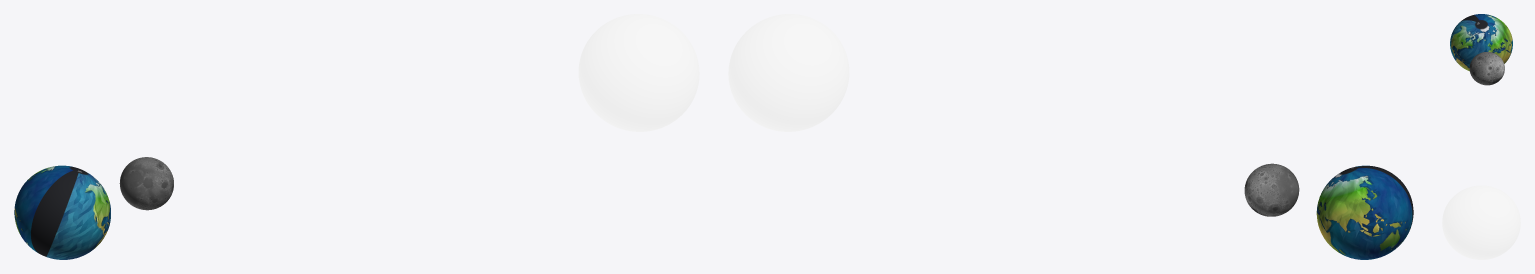
The model's file is ayush3.GLB.
The picture shows the model from 3 angles, left to right: view 1: azimuth 30°, elevation 25°; view 2: azimuth 150°, elevation 25°; view 3: azimuth 270°, elevation 25°; orthographic projection. The views are drawn at different scales.
Visible parts, largest first — view 1: Object_2, Object_4, Object_3; view 2: Object_2, Object_4, Object_3; view 3: Object_2, Object_4, Object_3.
Boxes of the visible parts, box(x1,y1,x2,y2) form: Object_2: box(578, 14, 699, 131); Object_4: box(14, 165, 110, 259); Object_3: box(119, 157, 173, 210); Object_2: box(728, 14, 849, 131); Object_4: box(1316, 165, 1413, 259); Object_3: box(1244, 163, 1299, 216); Object_2: box(1442, 185, 1520, 259); Object_4: box(1450, 14, 1512, 71); Object_3: box(1469, 52, 1504, 85).
Size of what is drawn, in the model's own units: 50.57 by 7.64 by 8.11.
3 materials, 2 textured.
